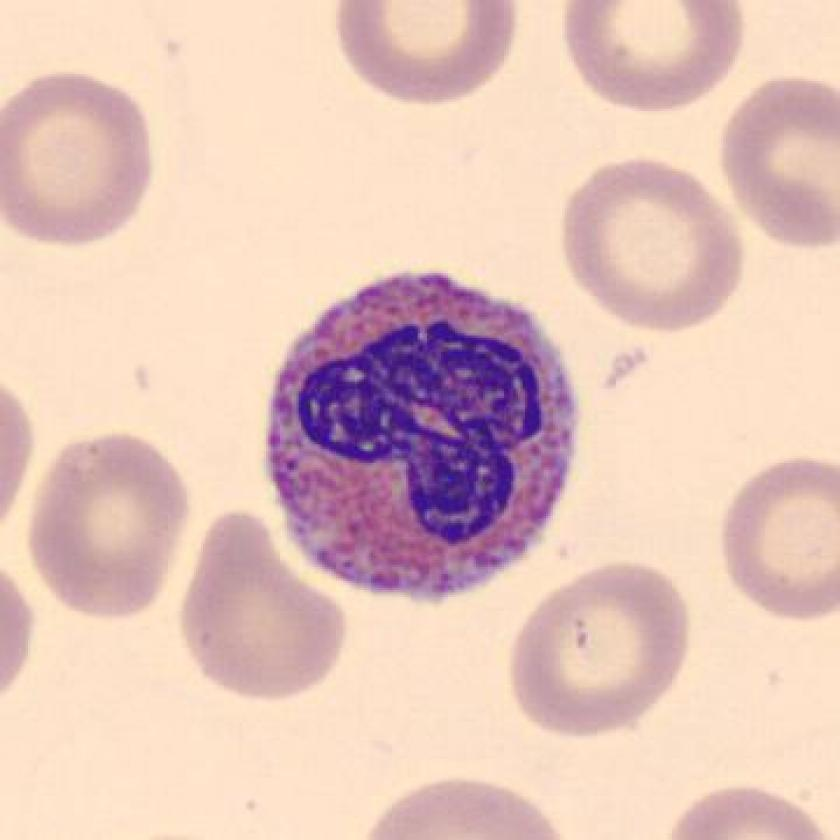eosinophil: (256, 253, 585, 621)
